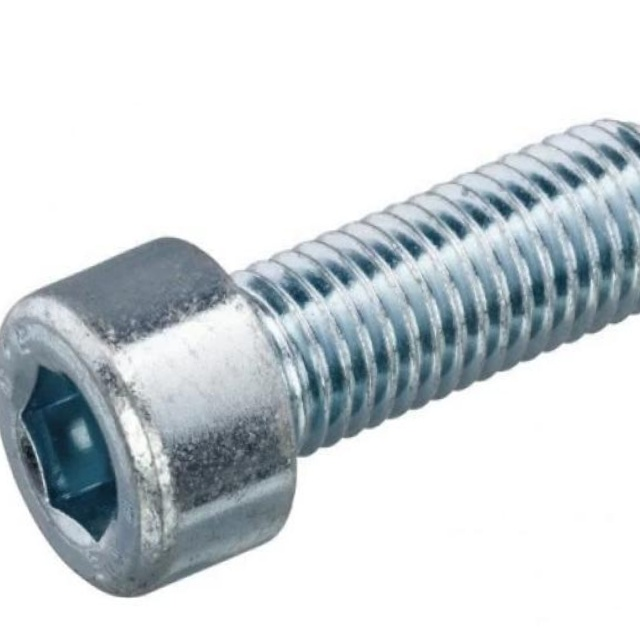allen: (0, 298, 167, 599)
